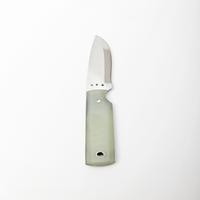knife: (81, 24, 139, 168)
